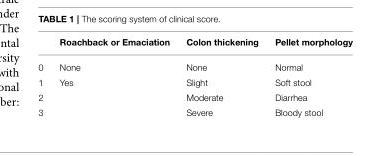table: (37, 37, 351, 116)
table column: (50, 37, 177, 116), (177, 37, 265, 116), (265, 37, 351, 116), (37, 37, 50, 116)
table column header: (37, 37, 351, 54)
table row: (37, 54, 351, 74), (37, 37, 351, 54), (37, 74, 351, 89), (37, 89, 351, 104), (37, 104, 351, 116)
